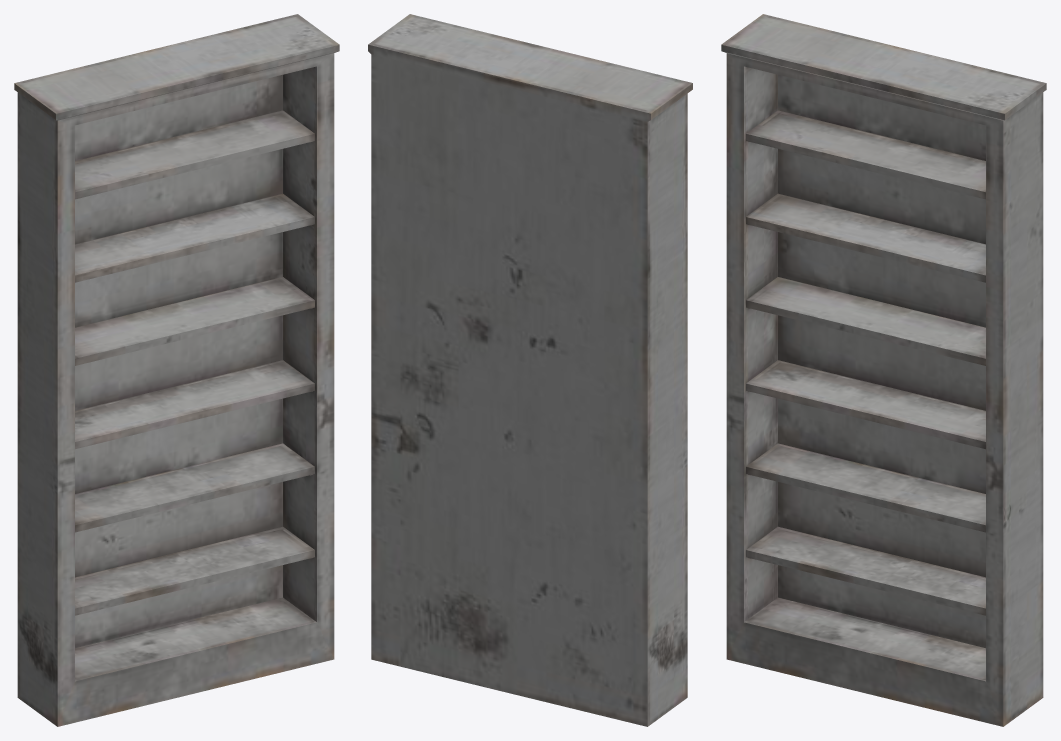
The picture shows the model from 3 angles, left to right: view 1: azimuth 30°, elevation 25°; view 2: azimuth 150°, elevation 25°; view 3: azimuth 330°, elevation 25°; orthographic projection.
Visible parts, largest first — view 1: Shelf_01; view 2: Shelf_01; view 3: Shelf_01.
Boxes of the visible parts, bbox=[...] form: Shelf_01: bbox=[14, 14, 339, 726]; Shelf_01: bbox=[368, 14, 692, 726]; Shelf_01: bbox=[721, 14, 1046, 726].
Bounding box in the file's own units: 1 × 2.08 × 0.257.
Materials: 1 (1 with a texture image).
